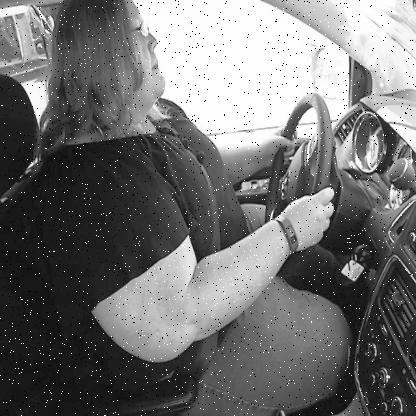seatbelt: (41, 0, 232, 240)
